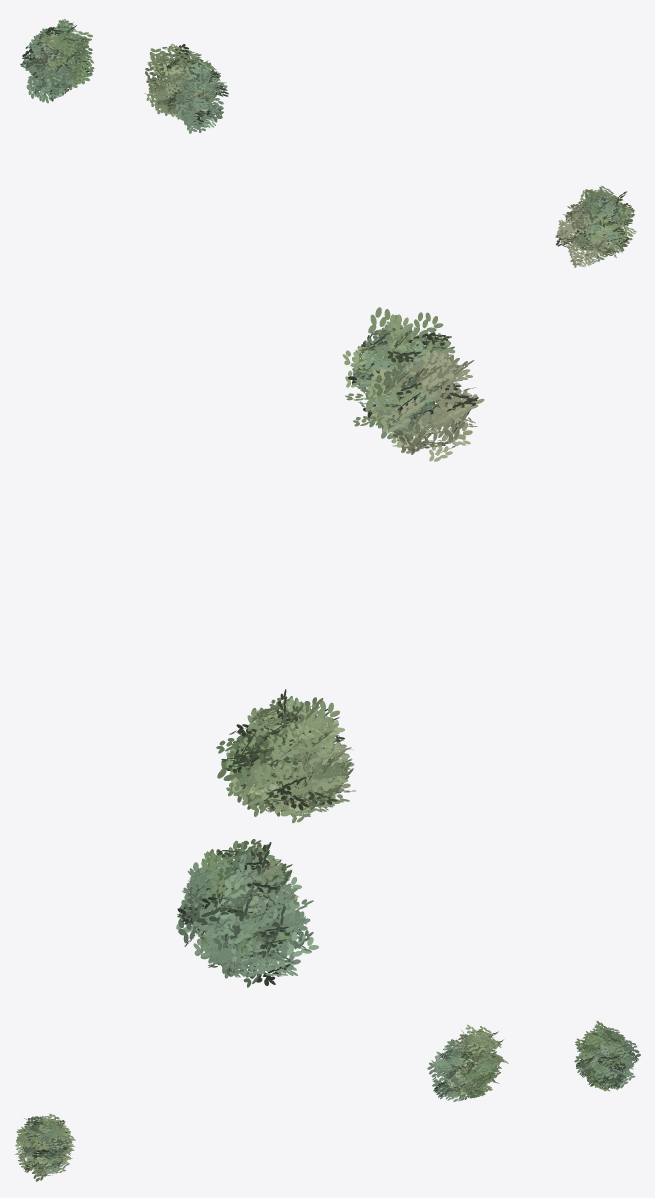
File: campus-tree--7_-8-near.glb
3 views of the same model, one above another, from view 1: azimuth 30°, elevation 25°; view 2: azimuth 150°, elevation 25°; view 3: azimuth 270°, elevation 25° (orthographic). The views are drawn at different scales.
Visible parts, largest first — view 1: Campus leaf canopy; view 2: Campus leaf canopy; view 3: Campus leaf canopy.
Boxes of the visible parts, x1=… form: Campus leaf canopy: x1=20, y1=18, x2=636, y2=267; Campus leaf canopy: x1=176, y1=307, x2=484, y2=987; Campus leaf canopy: x1=15, y1=1021, x2=640, y2=1181.
Size of the model in its own units: 21.93 by 7.19 by 45.56.
1 material, 1 textured.
